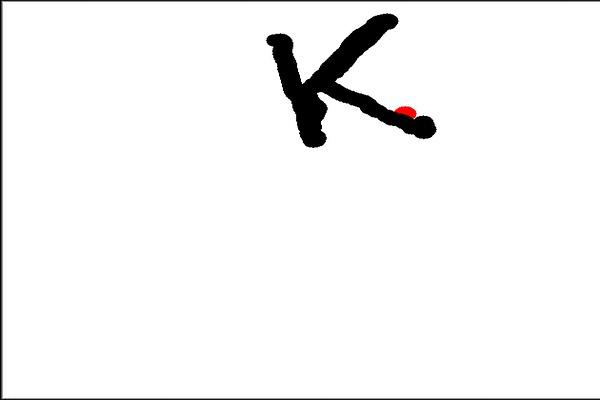K: (261, 10, 441, 153)
